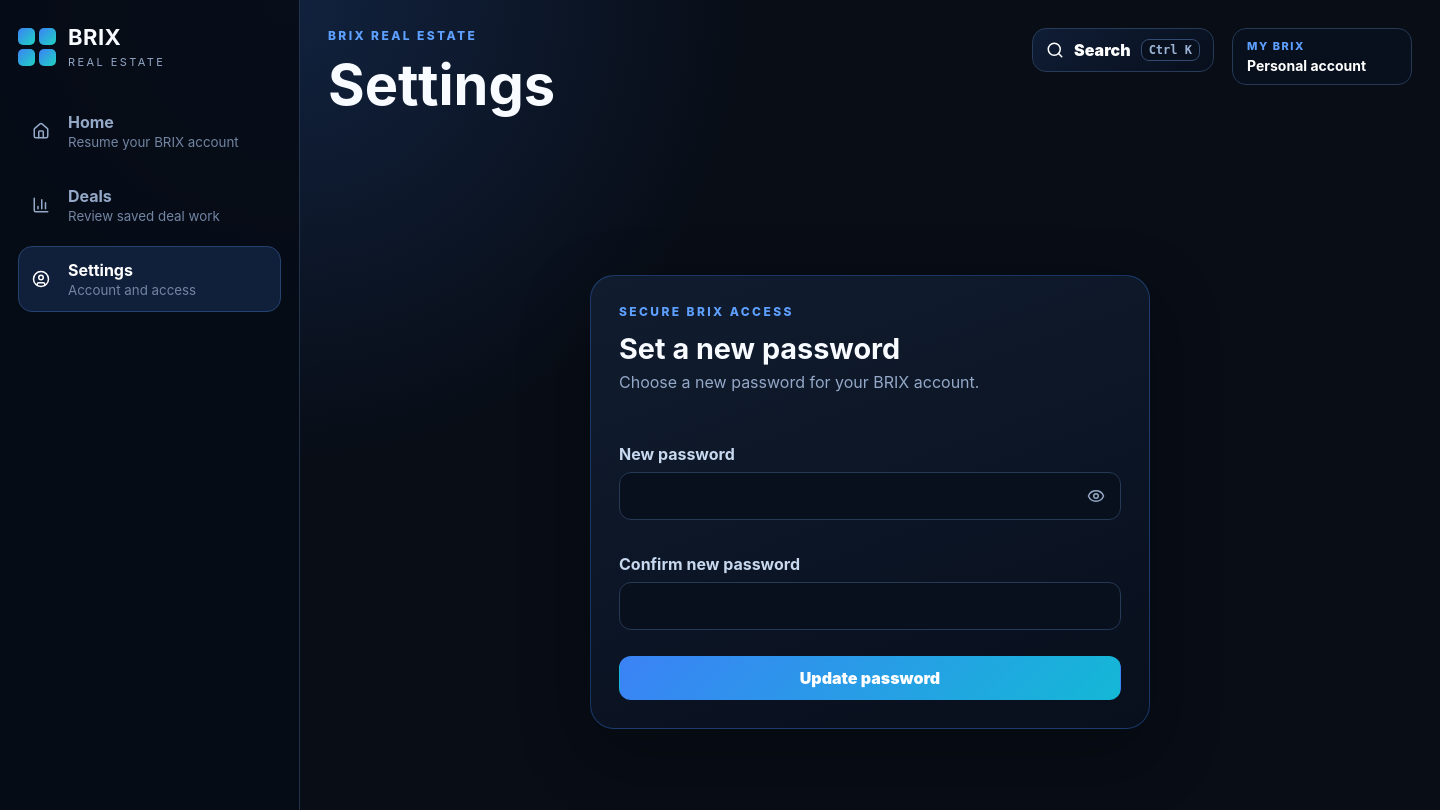
Test: BRIX app module flow › completes password recovery without client-authored ledger events and returns to the workspace
This screenshot has width=1440, height=810.
Expected: the heading "Set a new password" is shown, [619,331,900,366]
Type "newpassword1" into the password field labelled "New password" at [870, 496], box [619,472,1121,520]
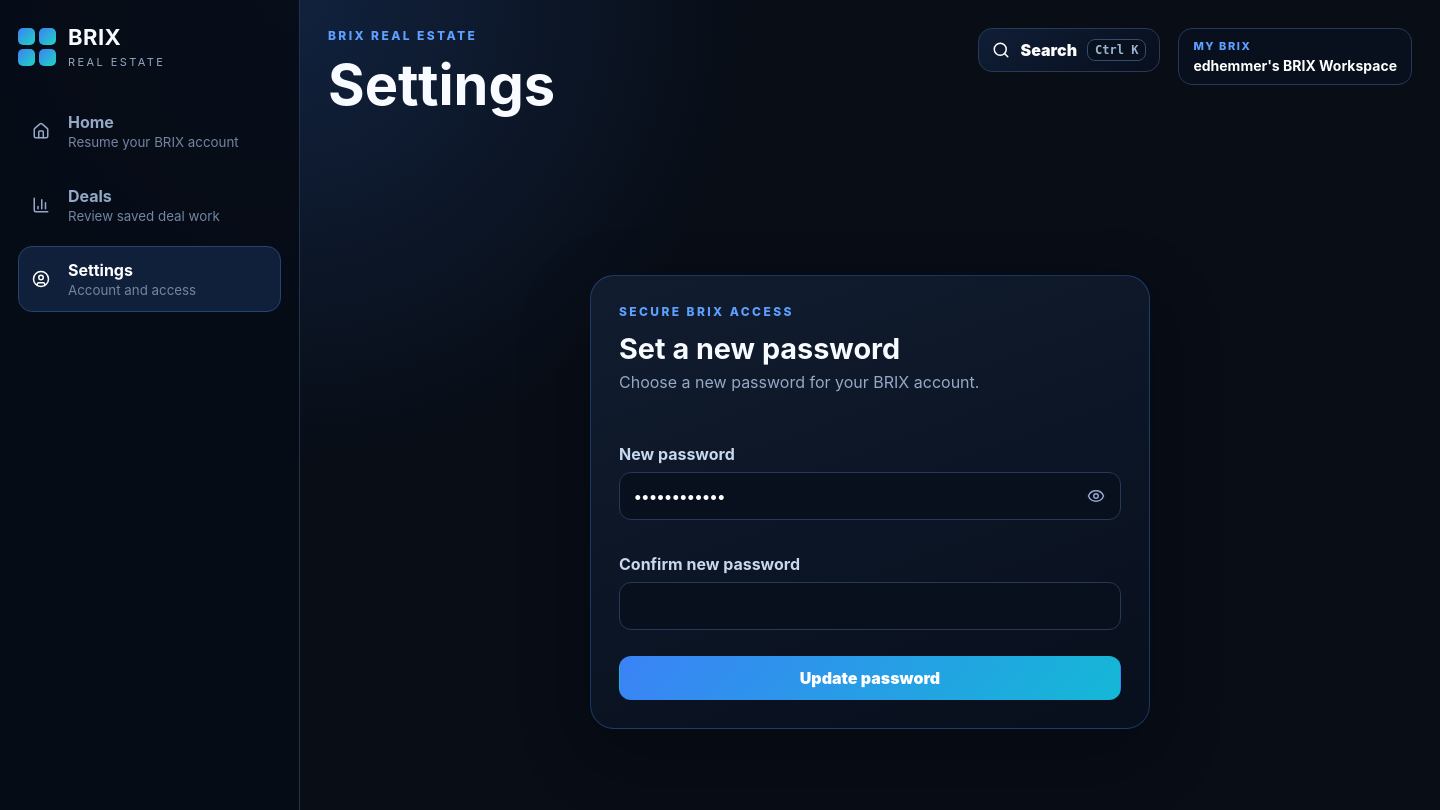
Type "newpassword1" into the password field labelled "Confirm new password" at [870, 606], box [619,582,1121,630]
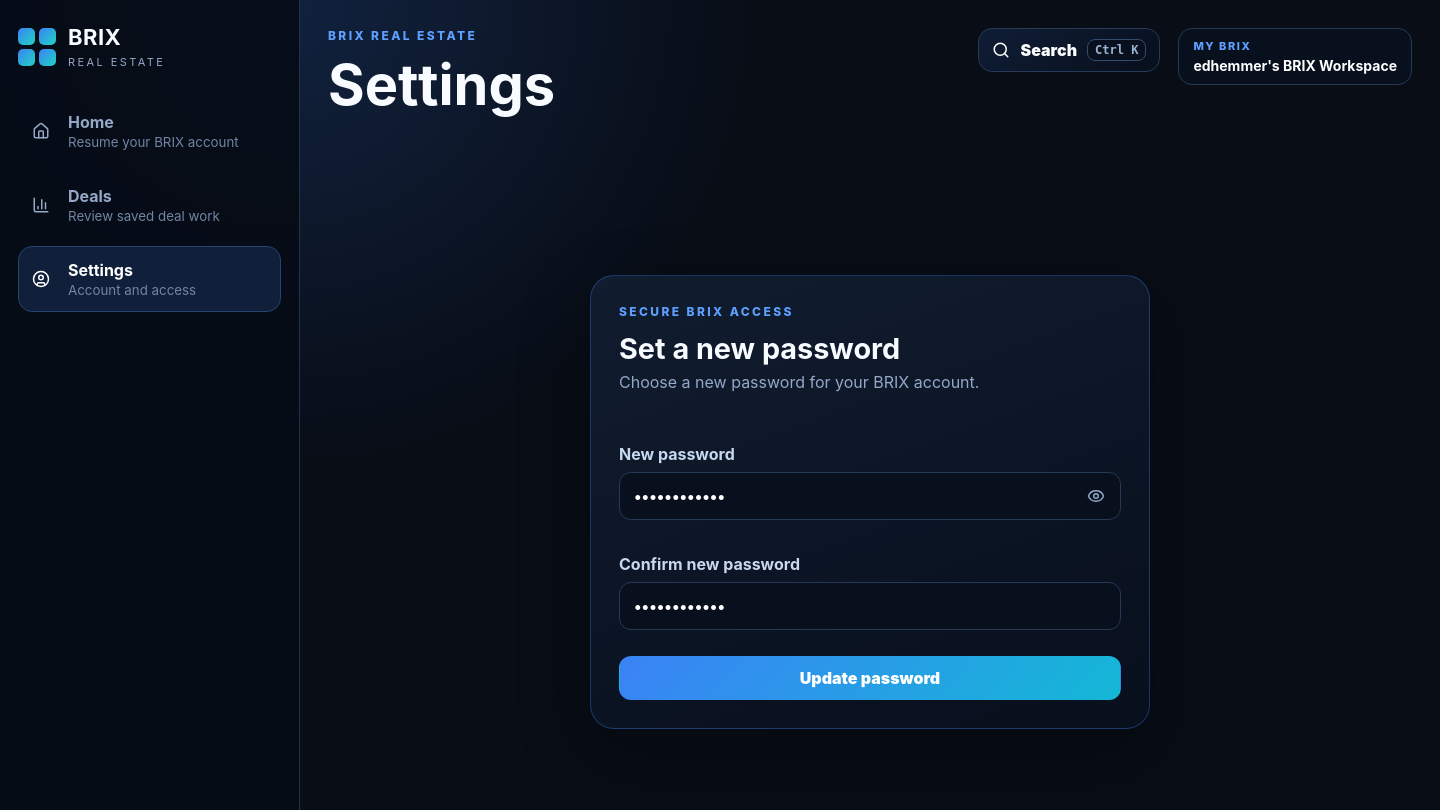
Click the button "Update password" at [870, 678], box [619,656,1121,700]
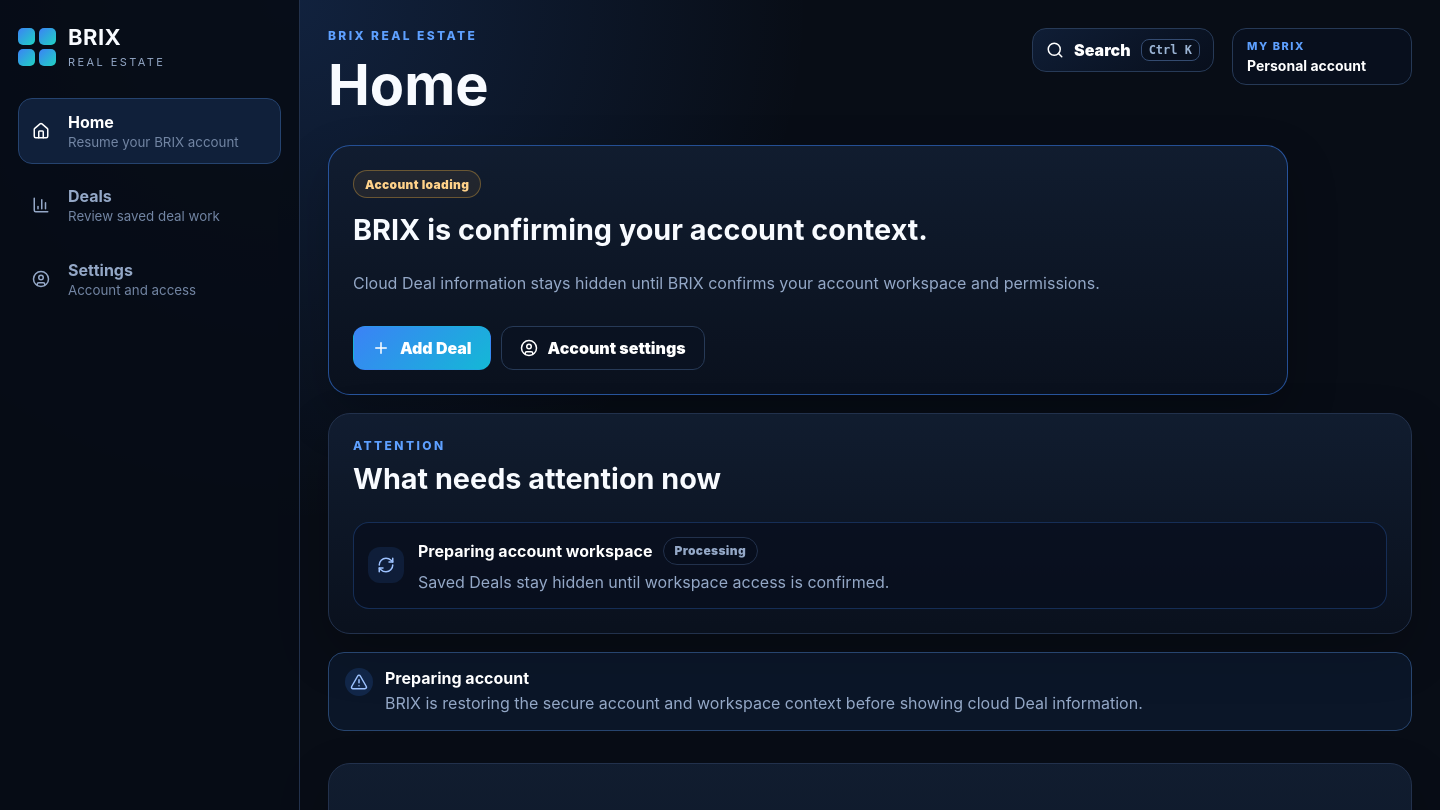
Now the heading "Home" is shown, box [328,51,489,119]
